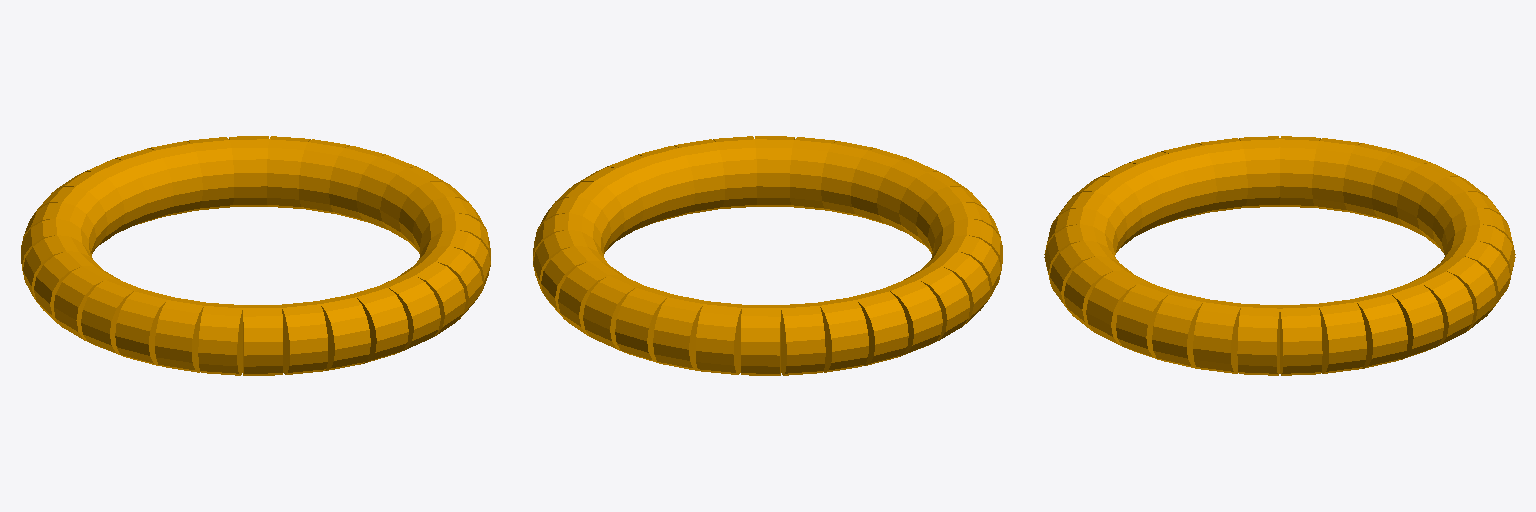
robot.urdf — ring:
<?xml version='1.0' encoding='utf-8'?>
<robot name="ring">
  <link name="body">
    <inertial>
      <origin xyz="-3.1170812458958252e-18 -2.083701050245579e-18 -6.963076741225125e-20" />
      <mass value="0.025" />
      <inertia ixx="1.4686385548016411e-05" iyy="1.468638554801641e-05" izz="2.893418916615613e-05" ixy="8.1927069794548935e-22" ixz="9.403643642747081e-24" iyz="3.8896076064746803e-23" />
    </inertial>
    <visual>
      <geometry>
        <mesh filename="part_00.obj" />
      </geometry>
    </visual>
    <collision>
      <geometry>
        <mesh filename="part_00.obj" />
      </geometry>
    </collision>
    <visual>
      <geometry>
        <mesh filename="part_01.obj" />
      </geometry>
    </visual>
    <collision>
      <geometry>
        <mesh filename="part_01.obj" />
      </geometry>
    </collision>
    <visual>
      <geometry>
        <mesh filename="part_02.obj" />
      </geometry>
    </visual>
    <collision>
      <geometry>
        <mesh filename="part_02.obj" />
      </geometry>
    </collision>
    <visual>
      <geometry>
        <mesh filename="part_03.obj" />
      </geometry>
    </visual>
    <collision>
      <geometry>
        <mesh filename="part_03.obj" />
      </geometry>
    </collision>
    <visual>
      <geometry>
        <mesh filename="part_04.obj" />
      </geometry>
    </visual>
    <collision>
      <geometry>
        <mesh filename="part_04.obj" />
      </geometry>
    </collision>
    <visual>
      <geometry>
        <mesh filename="part_05.obj" />
      </geometry>
    </visual>
    <collision>
      <geometry>
        <mesh filename="part_05.obj" />
      </geometry>
    </collision>
    <visual>
      <geometry>
        <mesh filename="part_06.obj" />
      </geometry>
    </visual>
    <collision>
      <geometry>
        <mesh filename="part_06.obj" />
      </geometry>
    </collision>
    <visual>
      <geometry>
        <mesh filename="part_07.obj" />
      </geometry>
    </visual>
    <collision>
      <geometry>
        <mesh filename="part_07.obj" />
      </geometry>
    </collision>
    <visual>
      <geometry>
        <mesh filename="part_08.obj" />
      </geometry>
    </visual>
    <collision>
      <geometry>
        <mesh filename="part_08.obj" />
      </geometry>
    </collision>
    <visual>
      <geometry>
        <mesh filename="part_09.obj" />
      </geometry>
    </visual>
    <collision>
      <geometry>
        <mesh filename="part_09.obj" />
      </geometry>
    </collision>
    <visual>
      <geometry>
        <mesh filename="part_10.obj" />
      </geometry>
    </visual>
    <collision>
      <geometry>
        <mesh filename="part_10.obj" />
      </geometry>
    </collision>
    <visual>
      <geometry>
        <mesh filename="part_11.obj" />
      </geometry>
    </visual>
    <collision>
      <geometry>
        <mesh filename="part_11.obj" />
      </geometry>
    </collision>
    <visual>
      <geometry>
        <mesh filename="part_12.obj" />
      </geometry>
    </visual>
    <collision>
      <geometry>
        <mesh filename="part_12.obj" />
      </geometry>
    </collision>
    <visual>
      <geometry>
        <mesh filename="part_13.obj" />
      </geometry>
    </visual>
    <collision>
      <geometry>
        <mesh filename="part_13.obj" />
      </geometry>
    </collision>
    <visual>
      <geometry>
        <mesh filename="part_14.obj" />
      </geometry>
    </visual>
    <collision>
      <geometry>
        <mesh filename="part_14.obj" />
      </geometry>
    </collision>
    <visual>
      <geometry>
        <mesh filename="part_15.obj" />
      </geometry>
    </visual>
    <collision>
      <geometry>
        <mesh filename="part_15.obj" />
      </geometry>
    </collision>
    <visual>
      <geometry>
        <mesh filename="part_16.obj" />
      </geometry>
    </visual>
    <collision>
      <geometry>
        <mesh filename="part_16.obj" />
      </geometry>
    </collision>
    <visual>
      <geometry>
        <mesh filename="part_17.obj" />
      </geometry>
    </visual>
    <collision>
      <geometry>
        <mesh filename="part_17.obj" />
      </geometry>
    </collision>
    <visual>
      <geometry>
        <mesh filename="part_18.obj" />
      </geometry>
    </visual>
    <collision>
      <geometry>
        <mesh filename="part_18.obj" />
      </geometry>
    </collision>
    <visual>
      <geometry>
        <mesh filename="part_19.obj" />
      </geometry>
    </visual>
    <collision>
      <geometry>
        <mesh filename="part_19.obj" />
      </geometry>
    </collision>
    <visual>
      <geometry>
        <mesh filename="part_20.obj" />
      </geometry>
    </visual>
    <collision>
      <geometry>
        <mesh filename="part_20.obj" />
      </geometry>
    </collision>
    <visual>
      <geometry>
        <mesh filename="part_21.obj" />
      </geometry>
    </visual>
    <collision>
      <geometry>
        <mesh filename="part_21.obj" />
      </geometry>
    </collision>
    <visual>
      <geometry>
        <mesh filename="part_22.obj" />
      </geometry>
    </visual>
    <collision>
      <geometry>
        <mesh filename="part_22.obj" />
      </geometry>
    </collision>
    <visual>
      <geometry>
        <mesh filename="part_23.obj" />
      </geometry>
    </visual>
    <collision>
      <geometry>
        <mesh filename="part_23.obj" />
      </geometry>
    </collision>
    <visual>
      <geometry>
        <mesh filename="part_24.obj" />
      </geometry>
    </visual>
    <collision>
      <geometry>
        <mesh filename="part_24.obj" />
      </geometry>
    </collision>
    <visual>
      <geometry>
        <mesh filename="part_25.obj" />
      </geometry>
    </visual>
    <collision>
      <geometry>
        <mesh filename="part_25.obj" />
      </geometry>
    </collision>
    <visual>
      <geometry>
        <mesh filename="part_26.obj" />
      </geometry>
    </visual>
    <collision>
      <geometry>
        <mesh filename="part_26.obj" />
      </geometry>
    </collision>
    <visual>
      <geometry>
        <mesh filename="part_27.obj" />
      </geometry>
    </visual>
    <collision>
      <geometry>
        <mesh filename="part_27.obj" />
      </geometry>
    </collision>
    <visual>
      <geometry>
        <mesh filename="part_28.obj" />
      </geometry>
    </visual>
    <collision>
      <geometry>
        <mesh filename="part_28.obj" />
      </geometry>
    </collision>
    <visual>
      <geometry>
        <mesh filename="part_29.obj" />
      </geometry>
    </visual>
    <collision>
      <geometry>
        <mesh filename="part_29.obj" />
      </geometry>
    </collision>
    <visual>
      <geometry>
        <mesh filename="part_30.obj" />
      </geometry>
    </visual>
    <collision>
      <geometry>
        <mesh filename="part_30.obj" />
      </geometry>
    </collision>
    <visual>
      <geometry>
        <mesh filename="part_31.obj" />
      </geometry>
    </visual>
    <collision>
      <geometry>
        <mesh filename="part_31.obj" />
      </geometry>
    </collision>
  </link>
</robot>

--- Facts derived from the render (not from the file) ---
3 views of the same robot in one strip: view 1: azimuth 30°, elevation 25°; view 2: azimuth 150°, elevation 25°; view 3: azimuth 270°, elevation 25° (orthographic).
Robot: ring — 1 links, 0 joints (none); root link body; default pose: every joint at zero.
Visible links, largest first — view 1: body; view 2: body; view 3: body.
Boxes of the visible links, left/top/right/bottom form: body: left=21, top=136, right=490, bottom=375; body: left=533, top=136, right=1002, bottom=375; body: left=1044, top=136, right=1515, bottom=375.
Size in the robot's own frame: 0.0799 by 0.0799 by 0.012 metres.
32 mesh visuals loaded from 32 distinct referenced files (32 OBJ).
